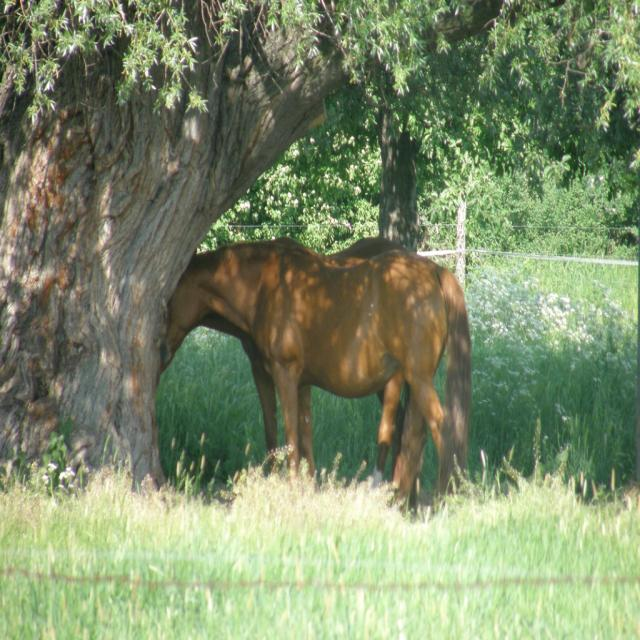Horse: (153, 235, 473, 506)
